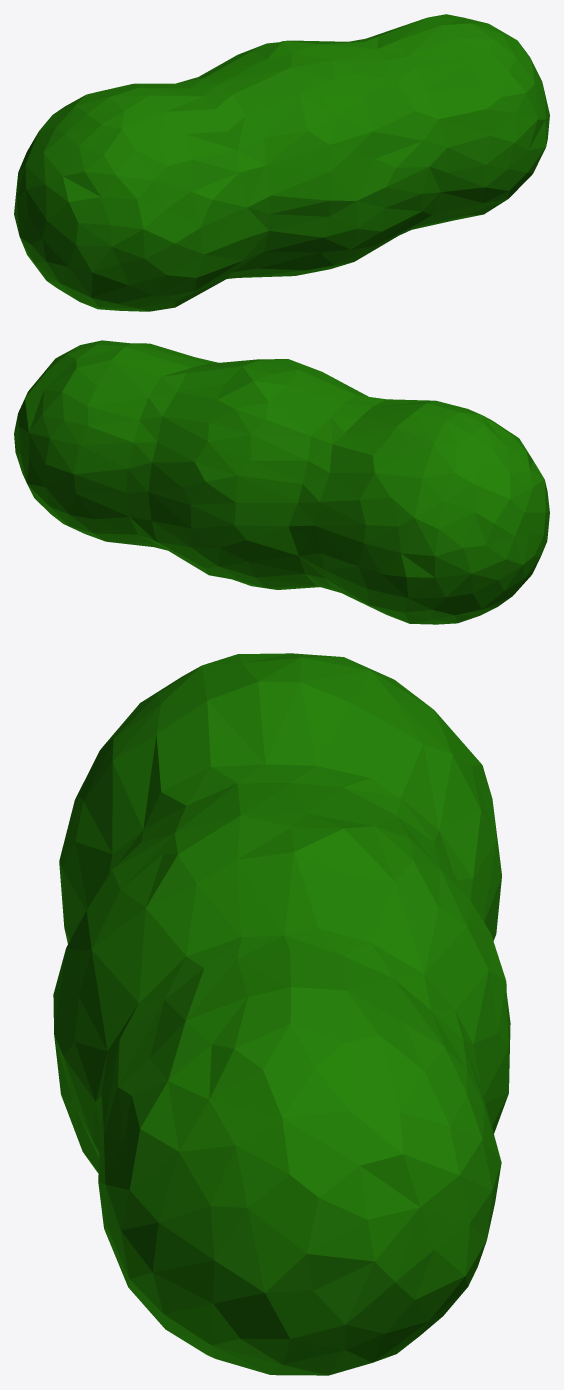
Rendered from bush.fbx.
3 views of the same model, one above another, from view 1: azimuth 30°, elevation 25°; view 2: azimuth 150°, elevation 25°; view 3: azimuth 270°, elevation 25° (orthographic). The views are drawn at different scales.
Parts seen in each view (by area): view 1: bush; view 2: bush; view 3: bush.
Boxes of the visible parts, box(x1,y1,x2,y2) form: bush: box(14, 14, 549, 311); bush: box(14, 340, 549, 624); bush: box(53, 653, 510, 1375).
Bounding box in the file's own units: 883 × 350 × 349.
